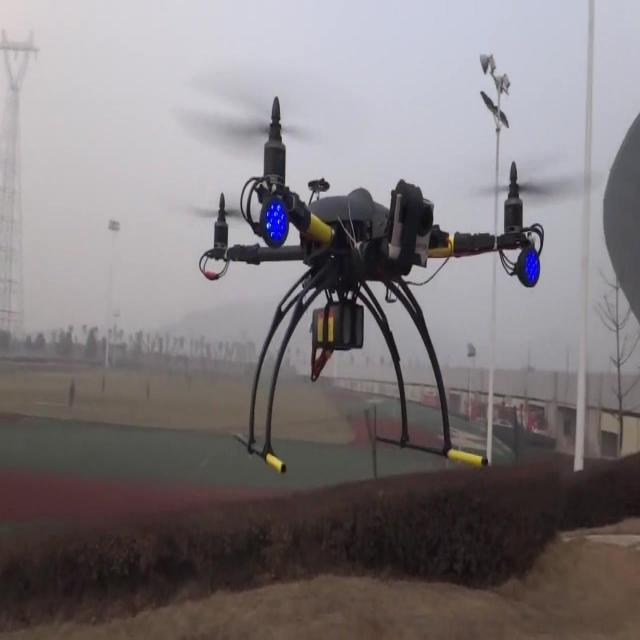UAV: (175, 97, 577, 475)
